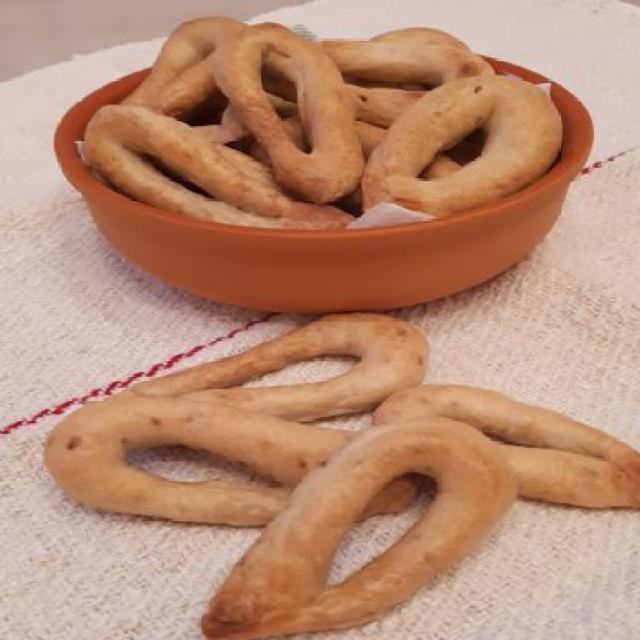Taralli: (50, 307, 639, 630), (76, 16, 570, 221)
